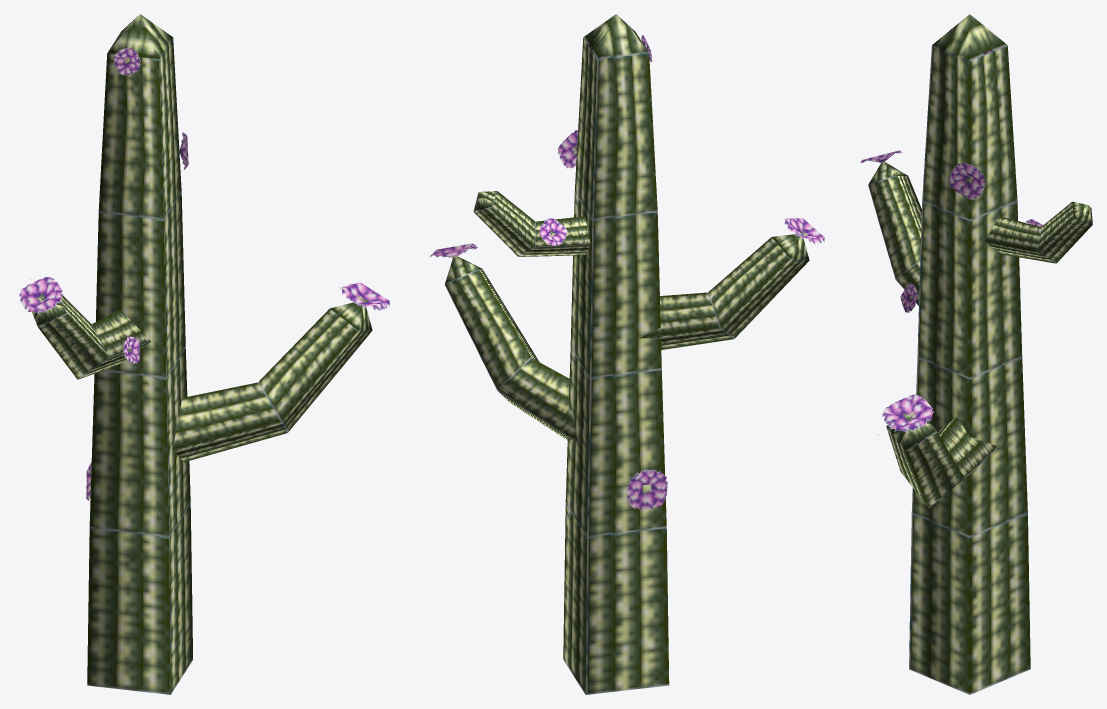
File: cactus_Flowers_Large_lowPoly.fbx
The picture shows the model from 3 angles, left to right: view 1: azimuth 30°, elevation 25°; view 2: azimuth 150°, elevation 25°; view 3: azimuth 270°, elevation 25°; orthographic projection.
Visible parts, largest first — view 1: cactus_Flowers_Large_lowPoly; view 2: cactus_Flowers_Large_lowPoly; view 3: cactus_Flowers_Large_lowPoly.
Part boxes in pixels (x1,y1,x2,y2): cactus_Flowers_Large_lowPoly: [19, 14, 390, 694]; cactus_Flowers_Large_lowPoly: [430, 14, 824, 694]; cactus_Flowers_Large_lowPoly: [860, 14, 1092, 694].
Bounding box in the file's own units: 2.57 × 4.2 × 1.39.
